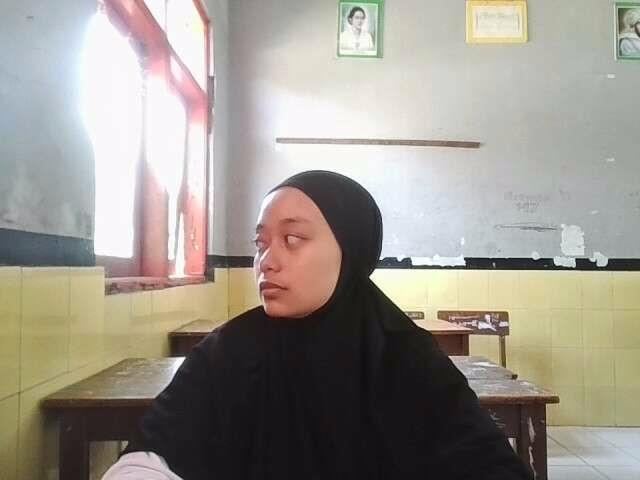cheating: (95, 160, 564, 480)
